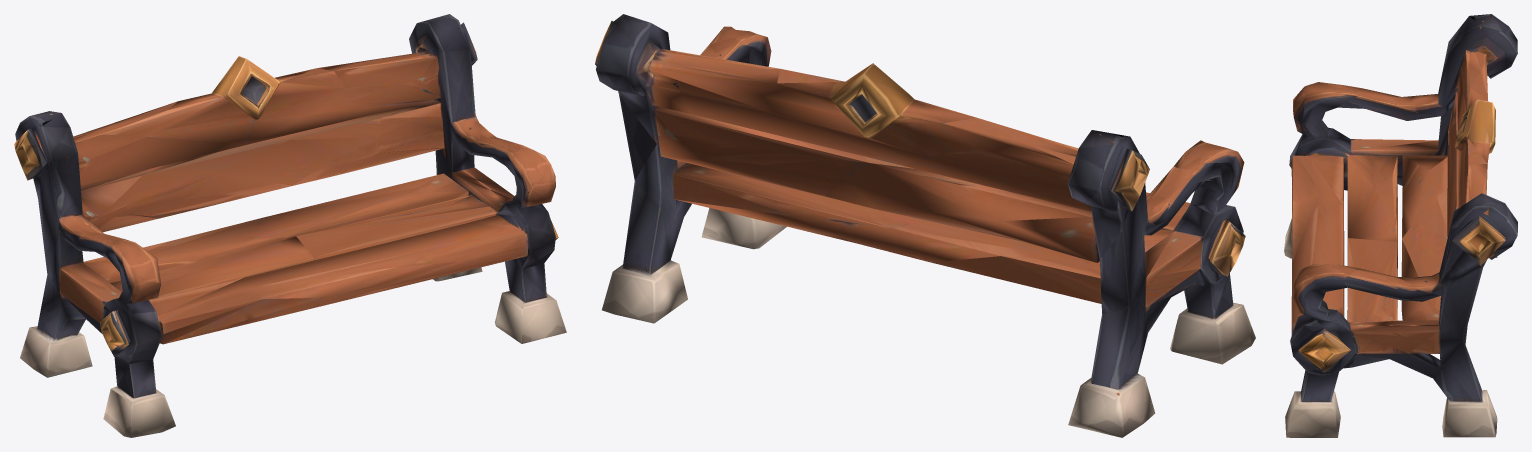
File: bench.fbx
The picture shows the model from 3 angles, left to right: view 1: azimuth 30°, elevation 25°; view 2: azimuth 150°, elevation 25°; view 3: azimuth 270°, elevation 25°; orthographic projection. The views are drawn at different scales.
Parts seen in each view (by area): view 1: bench; view 2: bench; view 3: bench.
Part boxes in pixels (x1=…): bench: x1=14, y1=14, x2=566, y2=437; bench: x1=595, y1=14, x2=1255, y2=437; bench: x1=1284, y1=14, x2=1517, y2=437.
Size of the model in its own units: 1.7 by 0.9196 by 0.8171.
Materials: 1 (1 with a texture image).
